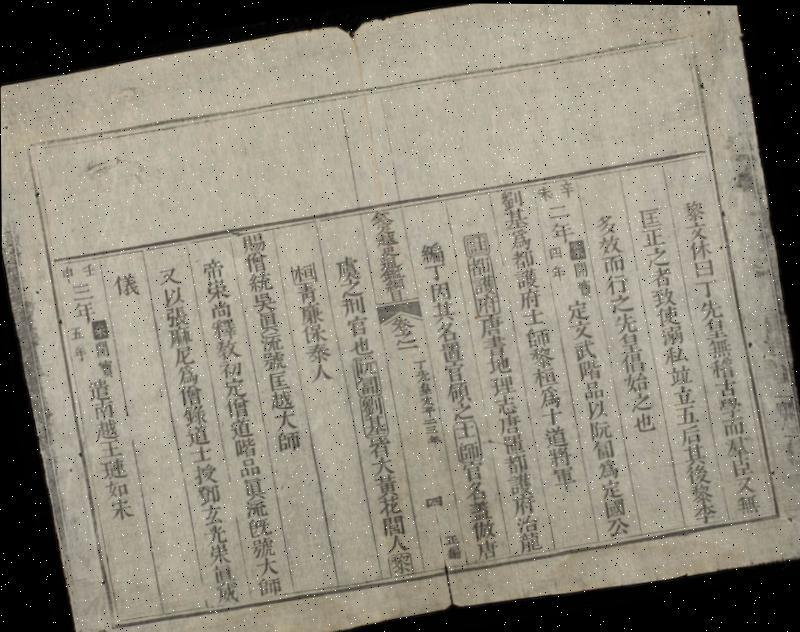c: (508, 514, 545, 554), (330, 250, 364, 284), (458, 227, 492, 258), (108, 268, 142, 298), (480, 346, 514, 376), (103, 494, 137, 523), (474, 310, 508, 339), (713, 388, 745, 418), (686, 496, 720, 524), (677, 194, 708, 224), (579, 389, 609, 420), (383, 548, 416, 576), (206, 314, 239, 342), (385, 310, 418, 338), (730, 489, 764, 516), (704, 353, 738, 380), (286, 258, 320, 285), (95, 455, 129, 482), (615, 344, 647, 372), (82, 375, 114, 403), (546, 462, 578, 490), (362, 430, 394, 458), (501, 469, 534, 496), (235, 228, 268, 255), (484, 372, 518, 398), (272, 426, 303, 454), (188, 458, 219, 486), (174, 380, 205, 408), (380, 275, 411, 303), (415, 238, 446, 266), (221, 393, 253, 420), (68, 297, 100, 324), (505, 490, 538, 516), (497, 450, 530, 476), (196, 253, 227, 280), (492, 410, 524, 436), (178, 401, 210, 427), (676, 439, 708, 465), (618, 368, 650, 394), (462, 494, 494, 520), (64, 278, 96, 304), (702, 332, 734, 358), (716, 411, 748, 437), (718, 431, 750, 457), (85, 396, 117, 422), (662, 360, 694, 386), (210, 335, 242, 361), (297, 320, 330, 345), (634, 203, 664, 230), (203, 540, 234, 566), (181, 422, 212, 448), (500, 204, 531, 230), (228, 434, 259, 460), (695, 294, 726, 320), (192, 480, 223, 506), (539, 422, 570, 448), (247, 288, 278, 314), (246, 533, 277, 559), (269, 406, 300, 432), (201, 276, 232, 302), (562, 296, 593, 322), (442, 378, 473, 404), (681, 459, 712, 485), (376, 511, 407, 537), (546, 217, 577, 243), (240, 248, 271, 274), (239, 494, 270, 520), (467, 515, 498, 541), (305, 360, 336, 386), (542, 442, 573, 468), (90, 416, 121, 442), (255, 328, 286, 354), (294, 300, 325, 326), (528, 363, 560, 388), (478, 334, 510, 359), (372, 491, 404, 516), (646, 283, 678, 308), (723, 452, 756, 476), (338, 292, 368, 318), (513, 284, 543, 310), (668, 382, 698, 408), (211, 580, 241, 606), (349, 352, 379, 378), (370, 470, 400, 496), (522, 323, 552, 349), (489, 391, 520, 416), (643, 263, 674, 288), (609, 309, 640, 334), (164, 323, 195, 348), (699, 315, 730, 340), (427, 298, 458, 323), (670, 400, 699, 426), (628, 408, 657, 434), (640, 243, 670, 268), (534, 383, 564, 408), (685, 479, 715, 504), (602, 512, 632, 537), (453, 437, 483, 462), (456, 457, 486, 482), (497, 430, 527, 455), (153, 262, 183, 287), (495, 185, 525, 210), (472, 536, 502, 561), (244, 268, 274, 293), (568, 336, 598, 361), (510, 265, 540, 290), (301, 340, 332, 364), (658, 342, 689, 366), (604, 290, 635, 314), (728, 472, 759, 496), (94, 436, 125, 460), (100, 476, 131, 500), (238, 474, 266, 500), (440, 358, 468, 384), (342, 313, 371, 338), (585, 415, 614, 440), (208, 562, 237, 587), (685, 234, 714, 259), (254, 573, 284, 597), (250, 554, 280, 578), (601, 270, 631, 294), (594, 232, 624, 256), (224, 416, 254, 440), (573, 357, 603, 381), (262, 368, 292, 392), (266, 387, 296, 411), (161, 304, 191, 328), (652, 303, 682, 327), (613, 330, 643, 354), (598, 495, 628, 519), (356, 392, 386, 416), (674, 421, 704, 445), (595, 475, 625, 499), (252, 309, 282, 333), (196, 502, 226, 526), (199, 521, 229, 545), (218, 375, 248, 399), (258, 348, 288, 372), (525, 344, 555, 368), (390, 332, 422, 354), (472, 291, 500, 316), (590, 210, 618, 235), (158, 284, 187, 308), (291, 280, 320, 304), (460, 476, 489, 500), (353, 372, 382, 396), (447, 398, 476, 422), (243, 515, 272, 539), (375, 255, 405, 278), (214, 357, 244, 380), (710, 374, 740, 397), (688, 256, 718, 279), (624, 389, 654, 412), (598, 251, 628, 274), (638, 225, 668, 248), (366, 453, 396, 476), (656, 323, 686, 346), (380, 532, 411, 554), (184, 442, 215, 464), (169, 344, 197, 368), (504, 226, 532, 250), (424, 278, 452, 302), (450, 416, 478, 440), (360, 412, 388, 436), (334, 278, 366, 299), (346, 332, 374, 356), (588, 436, 616, 460), (172, 363, 201, 386), (507, 246, 536, 269), (204, 298, 234, 320), (432, 319, 460, 342), (578, 377, 606, 400), (464, 253, 492, 276), (592, 456, 620, 479), (436, 338, 464, 361), (234, 455, 262, 478), (566, 318, 595, 340), (682, 218, 711, 240), (537, 404, 566, 426), (692, 276, 721, 298), (543, 199, 573, 220), (86, 315, 111, 340), (468, 272, 496, 294), (511, 511, 540, 532), (420, 261, 449, 282), (370, 229, 401, 248), (518, 306, 547, 326), (365, 205, 395, 224), (420, 490, 447, 511), (565, 236, 588, 260), (93, 356, 115, 378), (554, 176, 575, 199), (572, 276, 593, 298), (90, 338, 112, 359), (443, 541, 463, 563), (76, 259, 98, 279), (534, 182, 554, 203), (569, 258, 590, 278), (66, 322, 86, 343), (548, 260, 567, 282), (57, 263, 76, 284), (376, 243, 400, 259), (70, 342, 89, 362), (544, 242, 564, 261), (440, 528, 460, 545), (412, 367, 431, 383), (375, 220, 395, 235), (419, 403, 438, 418), (423, 430, 440, 446), (417, 379, 433, 395), (411, 356, 428, 369), (420, 394, 436, 406), (422, 423, 438, 434), (420, 416, 438, 425)
